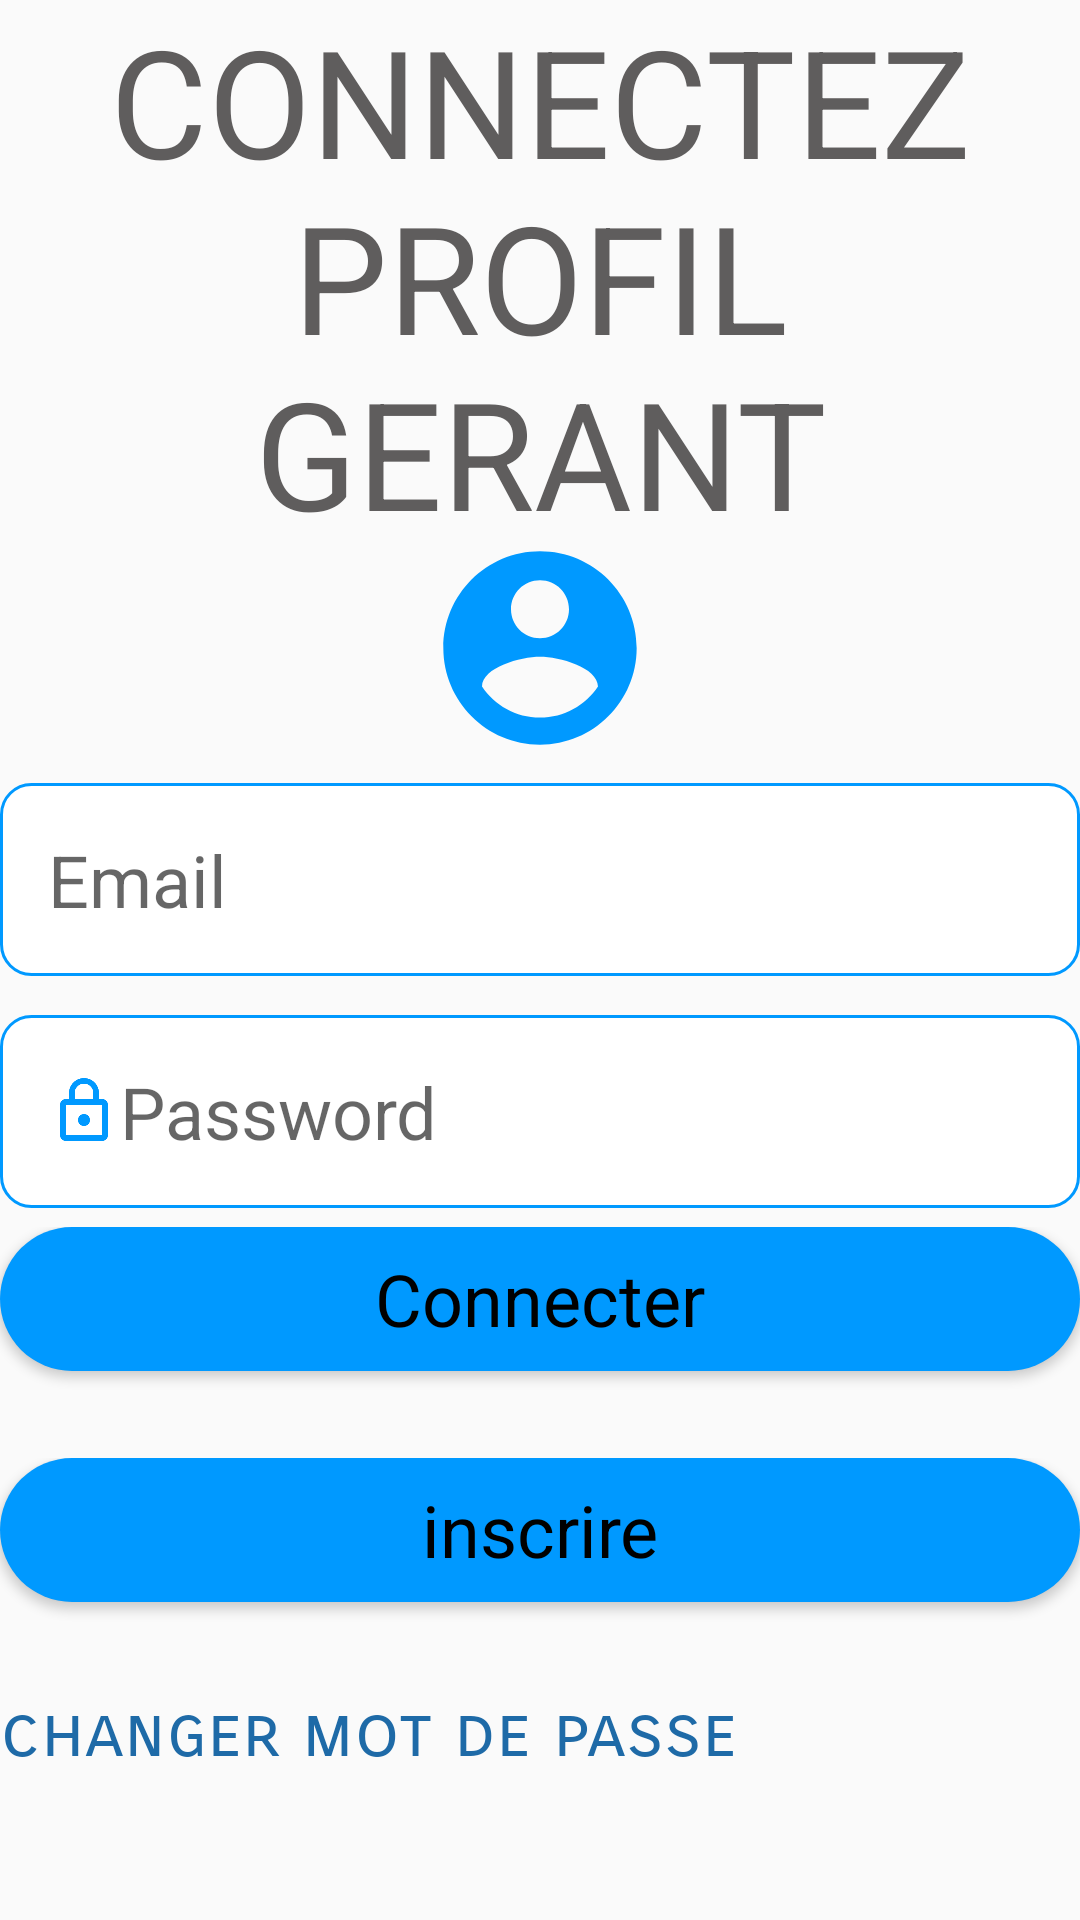

Where icons sit on this 1080w x 1920h app screen, as (x1, y1, x2, y2):
account circle: (443, 551, 637, 745)
